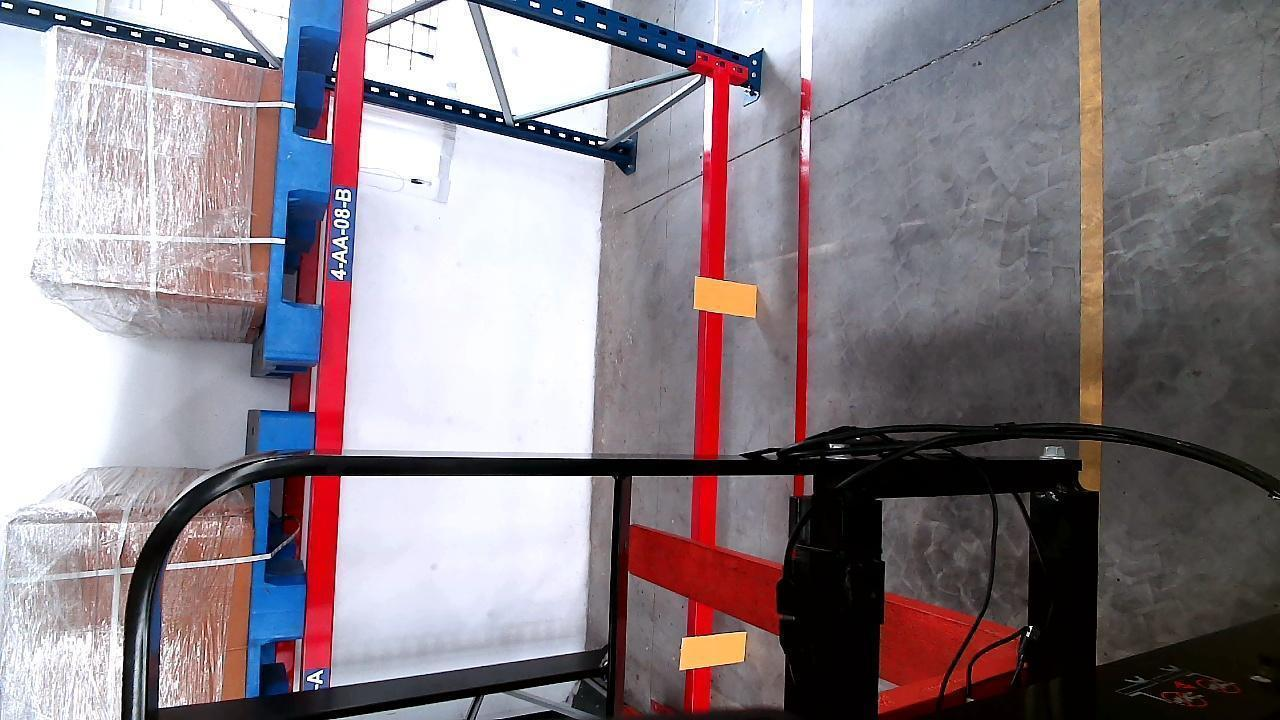red_line: (792, 12, 815, 434)
yellow_line: (1079, 0, 1106, 432)
